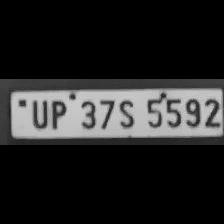2: (202, 94, 222, 128)
3: (74, 96, 99, 130)
5: (140, 94, 164, 128), (162, 94, 182, 128)
7: (96, 97, 116, 129)
9: (182, 95, 202, 127)
P: (47, 97, 70, 129)
S: (114, 96, 138, 130)
U: (28, 97, 48, 129)
